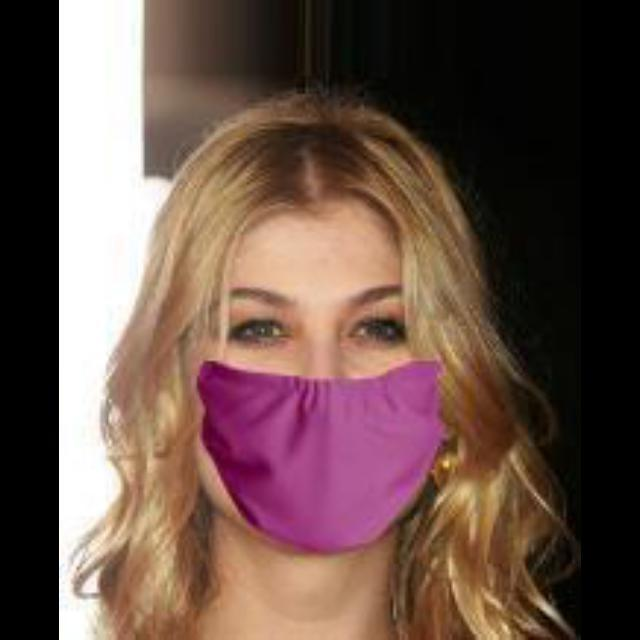suspicion: (175, 120, 489, 560)
